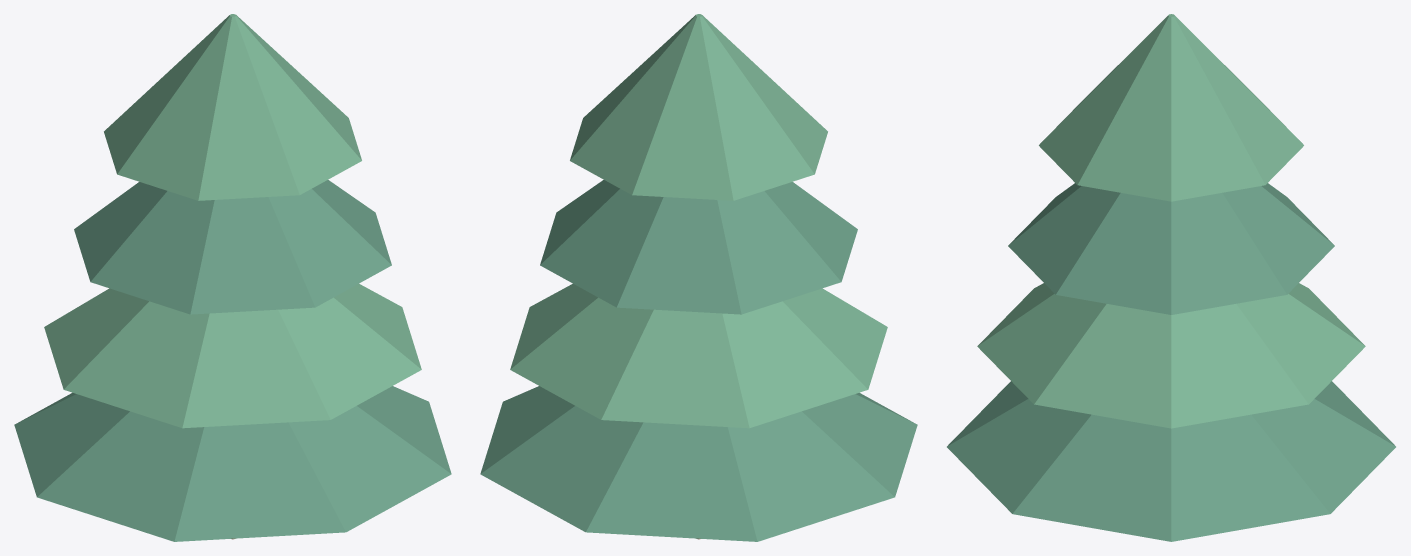
Rendered from 04_Pine.glb.
3 views of the same model, side by side, from view 1: azimuth 30°, elevation 25°; view 2: azimuth 150°, elevation 25°; view 3: azimuth 270°, elevation 25° (orthographic).
Parts seen in each view (by area): view 1: Pine_Layer0, Pine_Layer1, Pine_Layer2, Pine_Layer3; view 2: Pine_Layer0, Pine_Layer1, Pine_Layer2, Pine_Layer3; view 3: Pine_Layer0, Pine_Layer1, Pine_Layer2, Pine_Layer3.
Part boxes in pixels (x1,y1,x2,y2): Pine_Layer0: (14,386,451,541); Pine_Layer1: (44,284,421,428); Pine_Layer2: (74,180,391,314); Pine_Layer3: (104,14,361,200); Pine_Layer0: (480,386,917,541); Pine_Layer1: (510,284,887,428); Pine_Layer2: (540,180,857,314); Pine_Layer3: (570,14,827,200); Pine_Layer0: (947,381,1395,541); Pine_Layer1: (977,283,1365,428); Pine_Layer2: (1008,183,1334,314); Pine_Layer3: (1039,14,1303,201).
Size of the model in its own units: 2.57 by 3.24 by 2.57.
